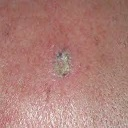Actinic: (51, 46, 77, 80)
